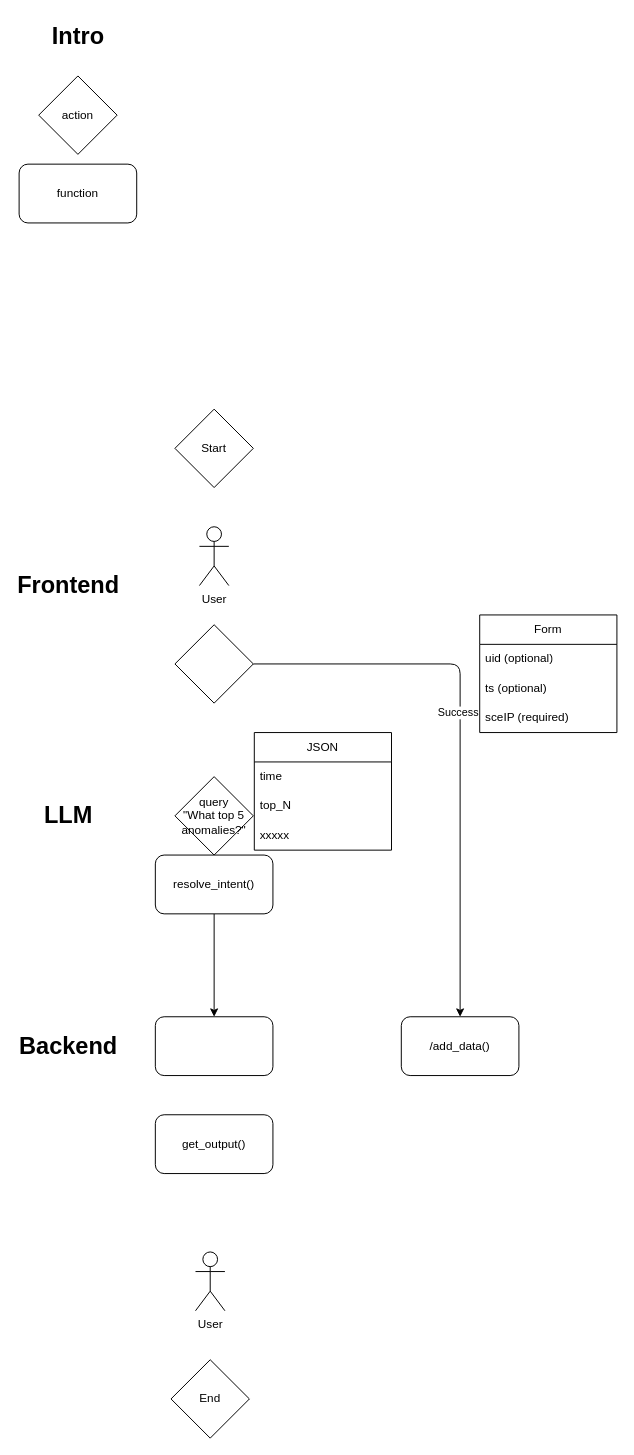
Image size: 634x1455. Some labels were removed from this diagram. Here are the shapes that lost their labels. From the top down, the centre of each, then its label:
(213,663): Upload data
(213,1046): find_anomalies()
